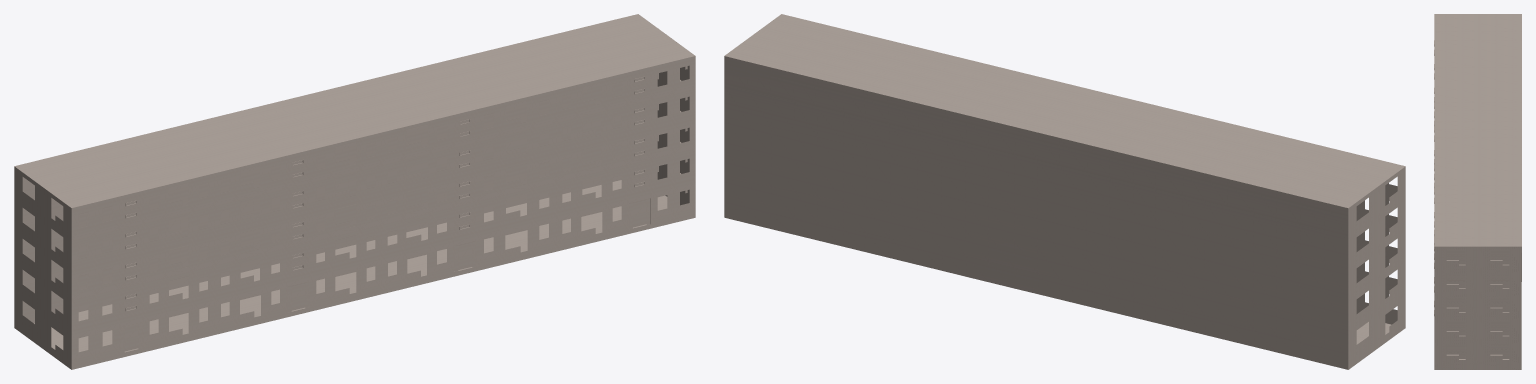
Rendered from Euro facade.fbx.
3 renders of one model, left to right at view 1: azimuth 30°, elevation 25°; view 2: azimuth 150°, elevation 25°; view 3: azimuth 270°, elevation 25°, orthographic. The views are drawn at different scales.
Parts seen in each view (by area): view 1: Evro fasad; view 2: Evro fasad; view 3: Evro fasad.
Part boxes in pixels (left/top/right/bottom): Evro fasad: left=14, top=14, right=695, bottom=369; Evro fasad: left=724, top=14, right=1405, bottom=369; Evro fasad: left=1434, top=14, right=1521, bottom=369.
Bounding box in the file's own units: 15387 × 3811 × 2461.
